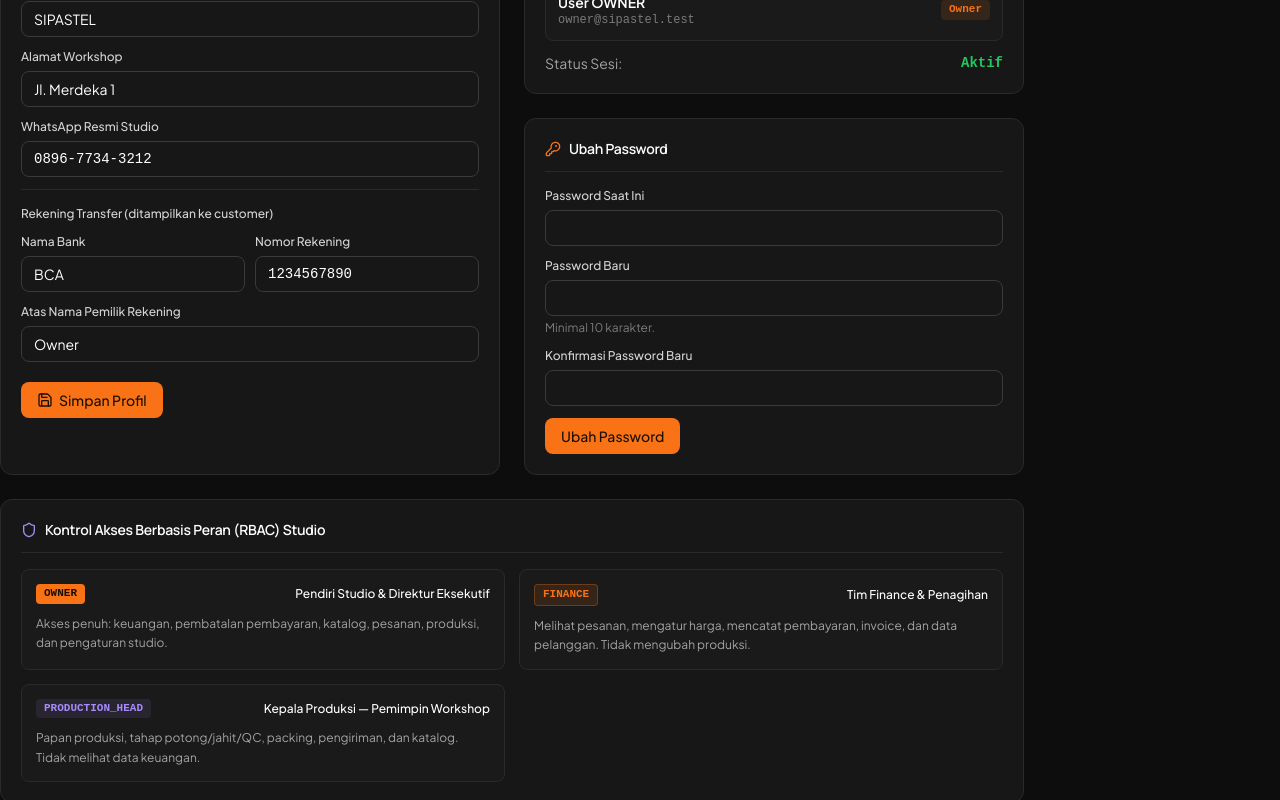
Test case: SettingsView - studio profile › reports the database refusal instead of claiming success
(page scrolled)
expect the field labelled "Nama Brand / Studio" holds "SIPASTEL": met, box [21, 1, 479, 37]
Click the button "Simpan Profil".
click(92, 400)  # box [21, 382, 163, 418]
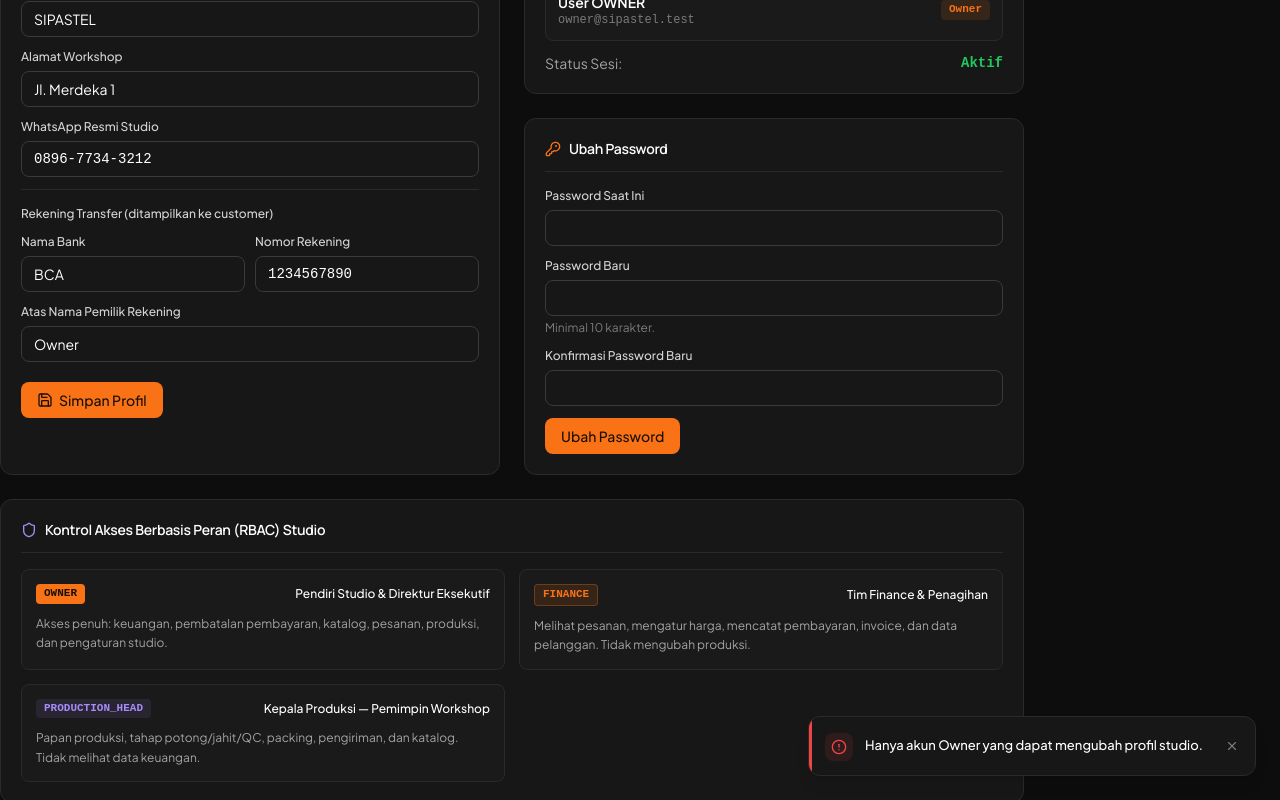
expect the text "Hanya akun Owner yang dapat mengubah profil studio." is shown: met, box [865, 731, 1211, 755]
